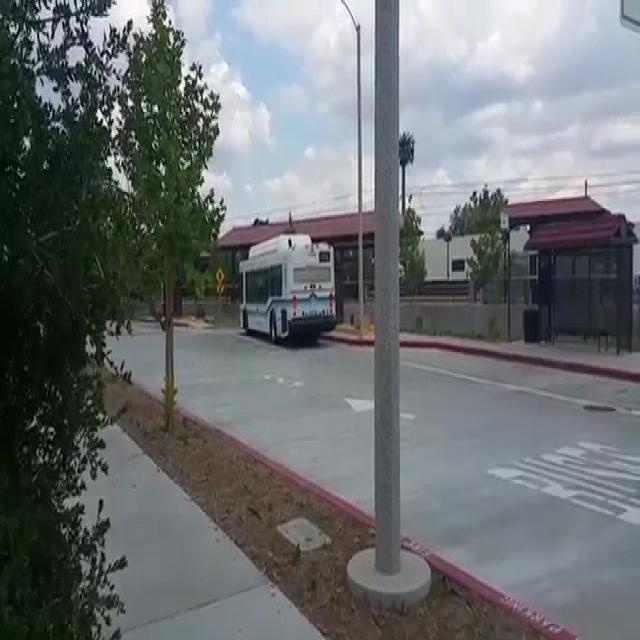Bus: (240, 238, 338, 334)
